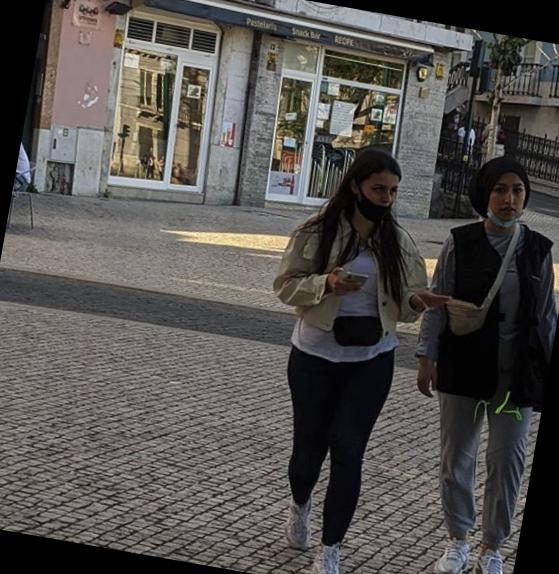mask_weared_incorrect: (481, 177, 531, 234), (356, 171, 405, 220)
